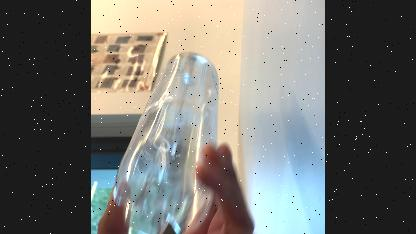Plastic Bottle: (111, 46, 226, 234)
